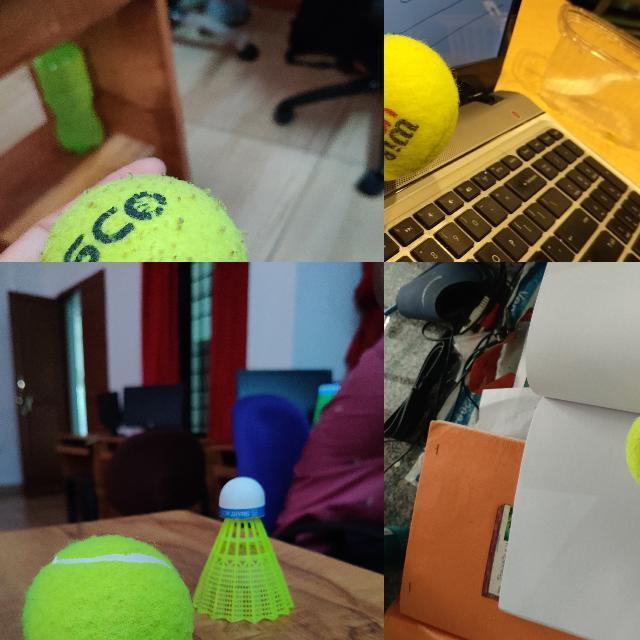tennis-ball: (34, 173, 251, 261), (22, 535, 192, 639), (384, 32, 460, 182)
